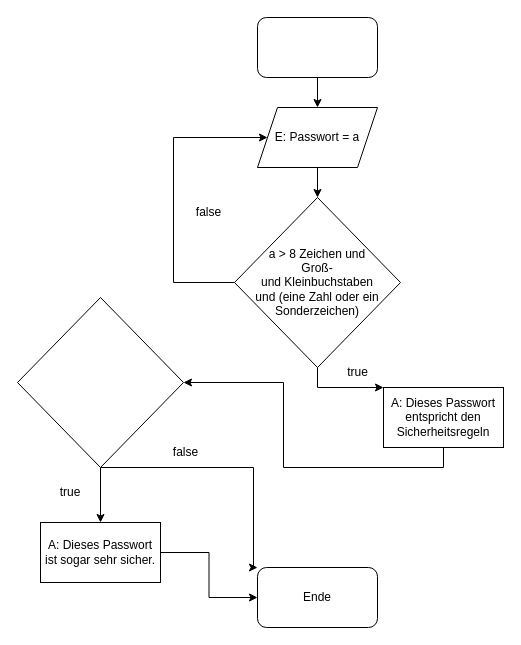
This 521x645 diagram has some shape labels left out. Here are the shapes that lost their labels. From the top down, the centre of each, then its label:
point (317, 47): Start
point (100, 382): a > 14 Zeichen und Groß- und Kleinbuchstaben und eine Zahl und ein Sonderzeichen
